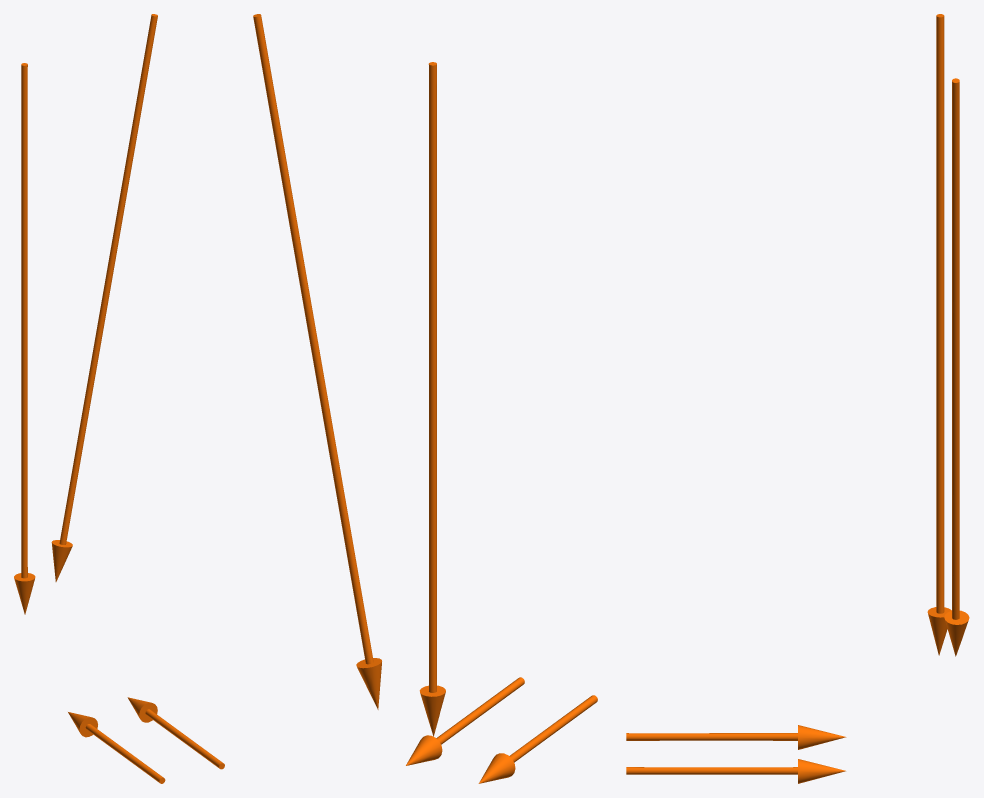
Rendered from s3arrow.glb.
The picture shows the model from 3 angles, left to right: view 1: azimuth 30°, elevation 25°; view 2: azimuth 150°, elevation 25°; view 3: azimuth 270°, elevation 25°; orthographic projection. The views are drawn at different scales.
Parts seen in each view (by area): view 1: Node; view 2: Node; view 3: Node.
Boxes of the visible parts, x1=… form: Node: x1=14, y1=14, x2=224, y2=783; Node: x1=253, y1=14, x2=597, y2=783; Node: x1=626, y1=14, x2=969, y2=783.
Bounding box in the file's own units: 3.05 × 12.5 × 5.22.
